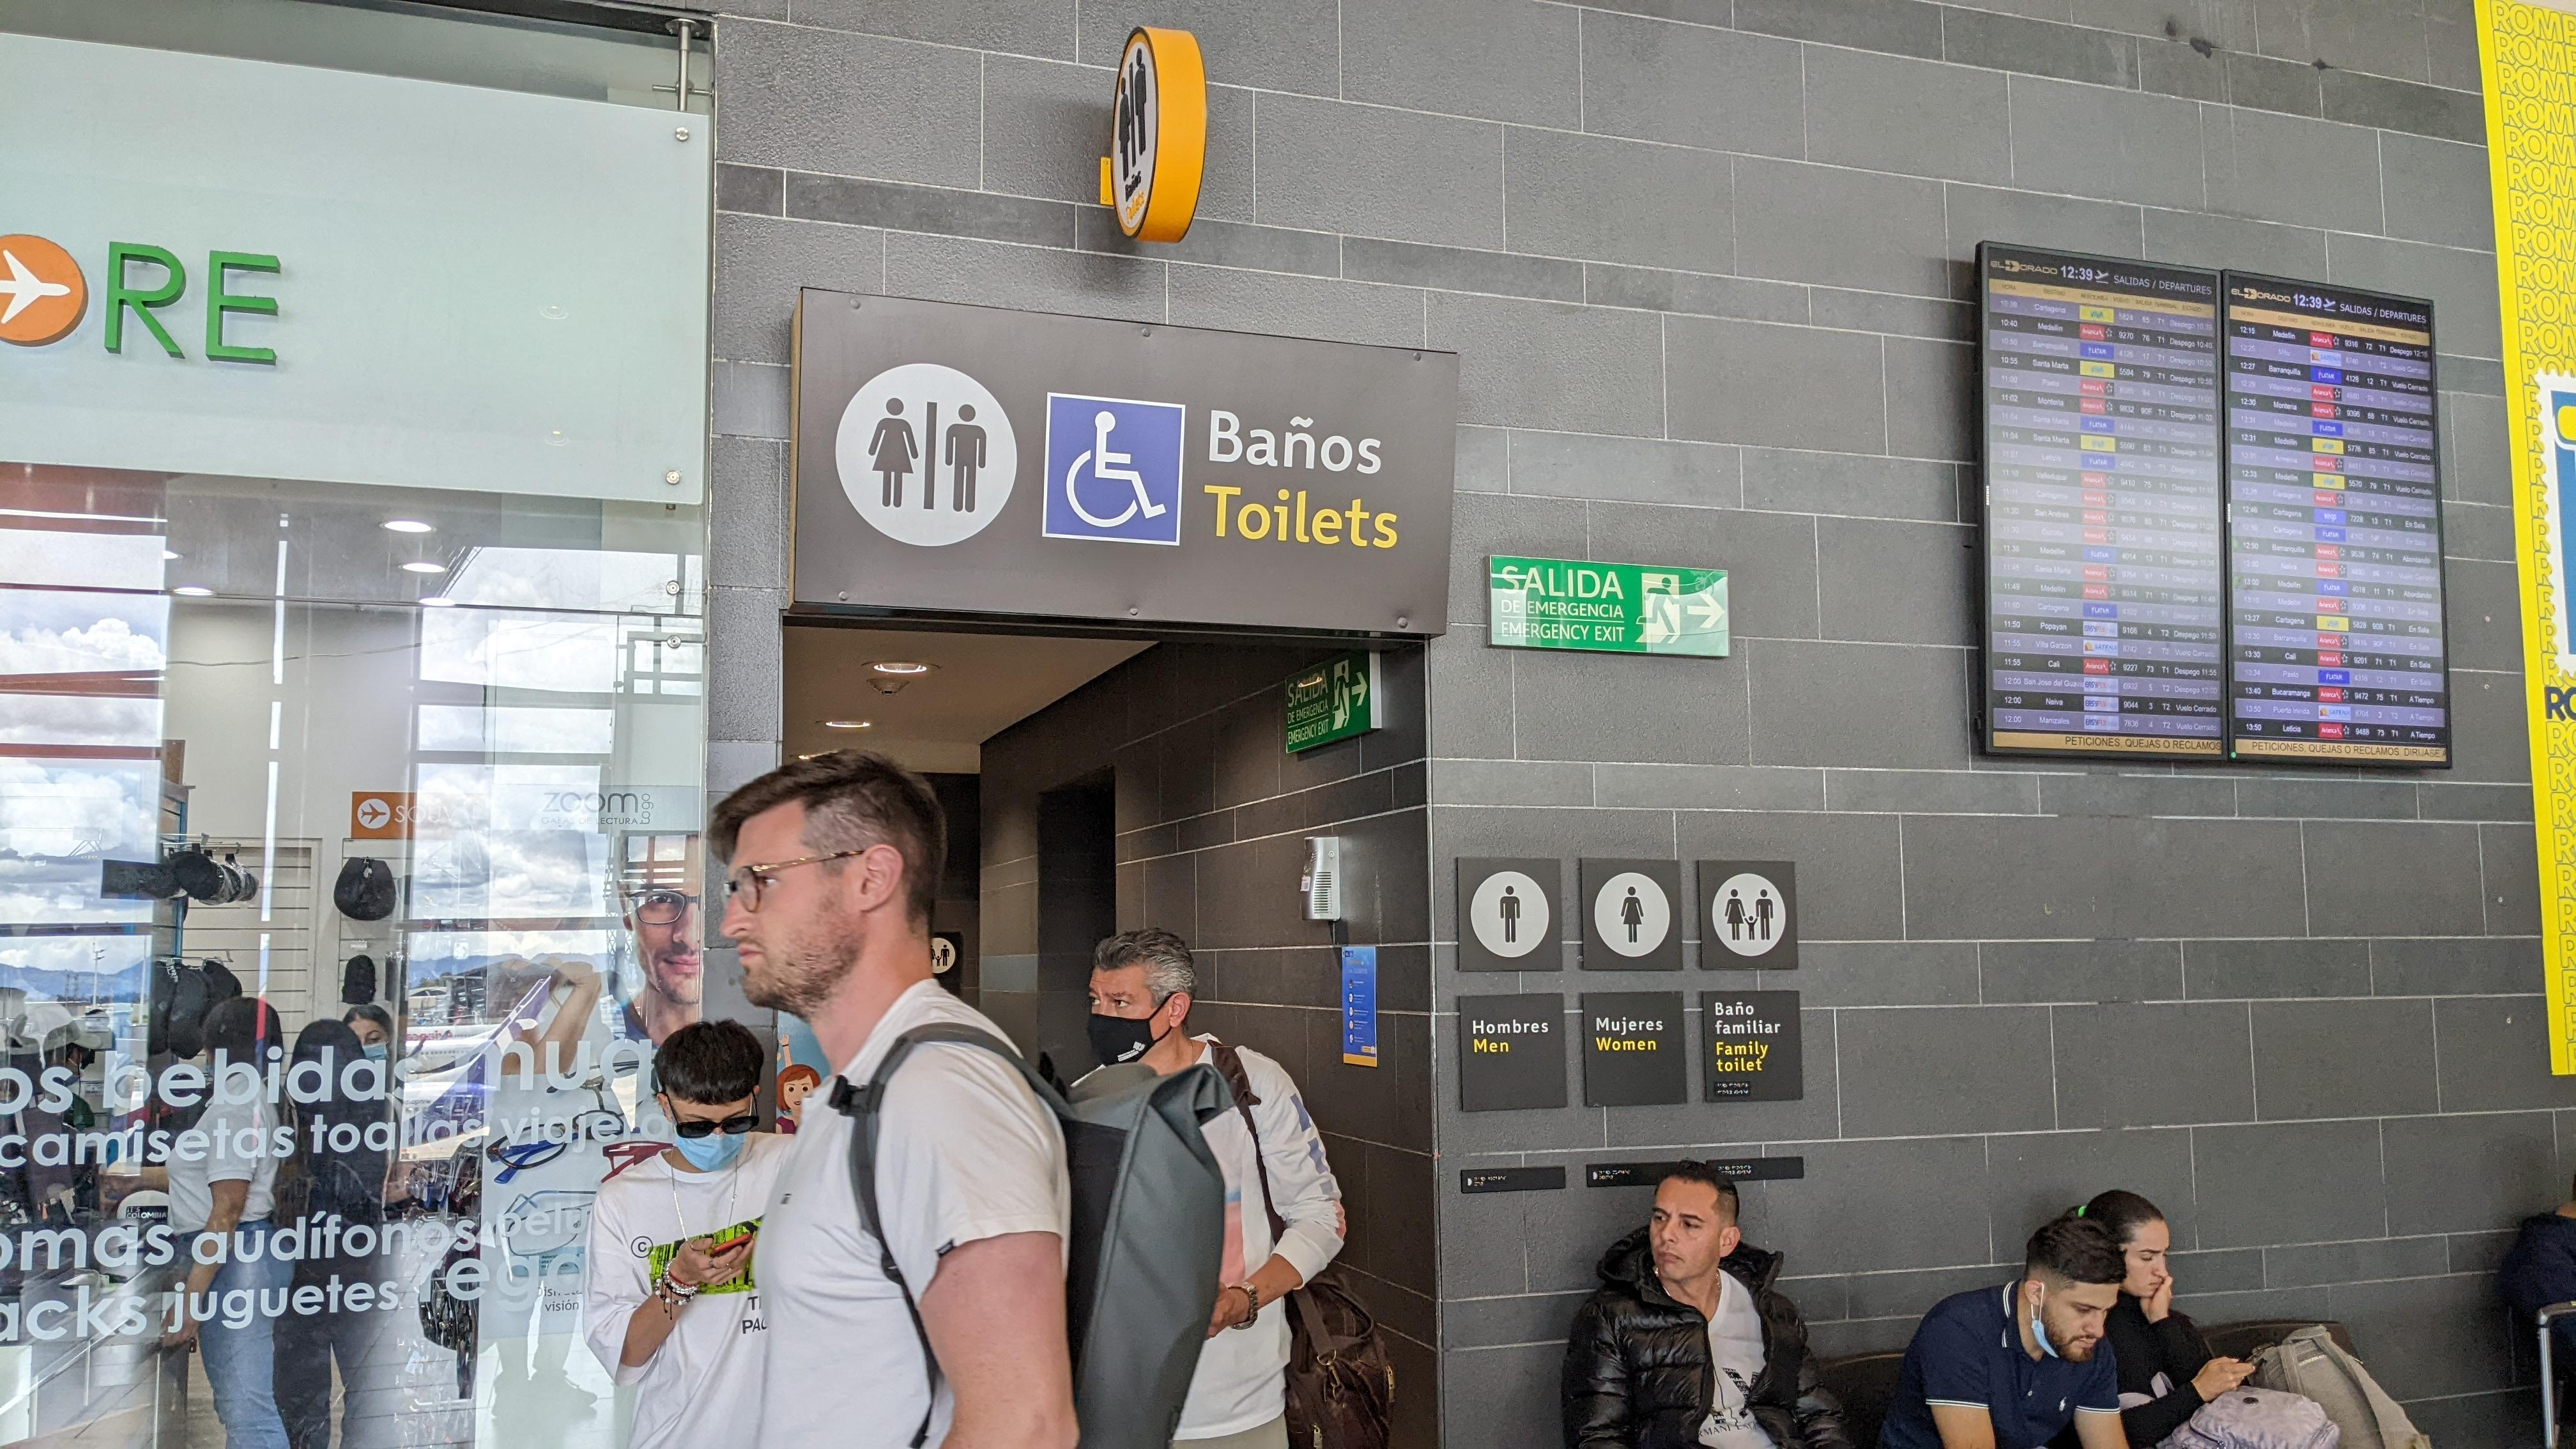bathrooms: (865, 395, 991, 513)
emergency exit: (1633, 570, 1684, 648), (1330, 660, 1352, 731)
emergency right arrow: (1686, 589, 1727, 632), (1350, 669, 1368, 708)
handicapped symbol: (1065, 410, 1168, 529)
